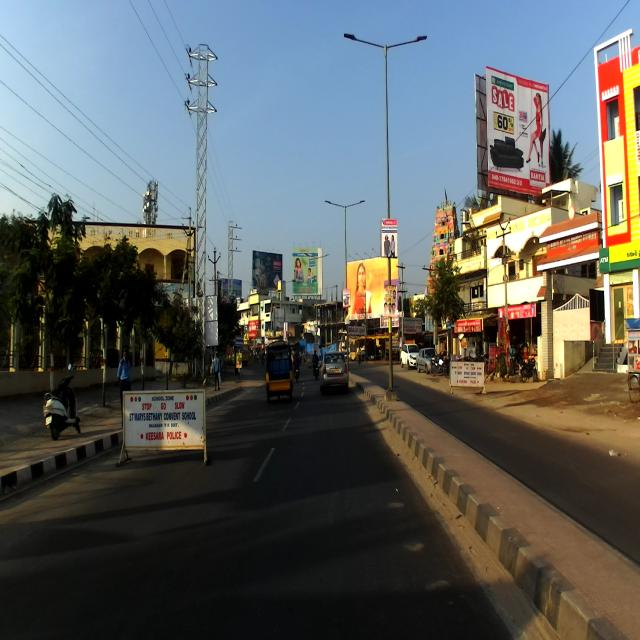auto ahead at: (264, 338, 292, 402)
barrier ahead at: (115, 386, 210, 474)
car ahead at: (318, 348, 350, 392)
motorcycle ahead at: (40, 362, 86, 443)
